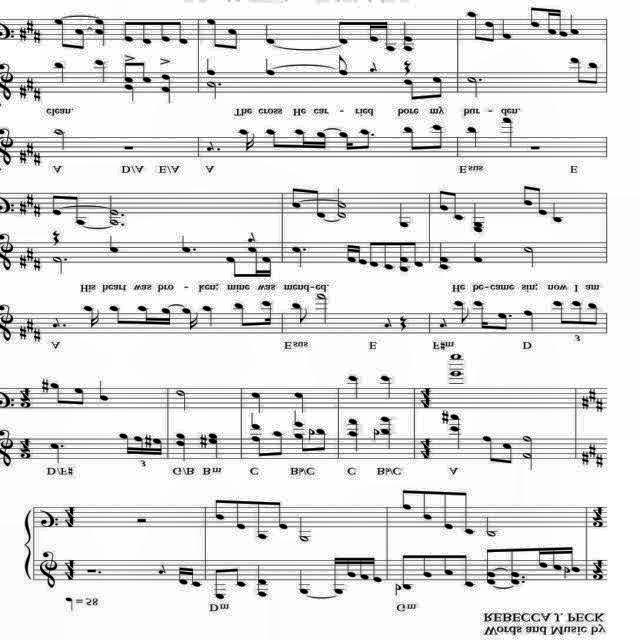Bass-clef: (40, 509, 60, 528), (1, 194, 16, 214), (0, 391, 16, 409), (1, 22, 16, 40)
Bemol: (372, 428, 381, 442), (393, 584, 402, 596), (307, 430, 315, 442)
Diez: (439, 410, 449, 426), (580, 450, 590, 466), (595, 454, 605, 470), (579, 396, 589, 412), (25, 317, 35, 333), (32, 328, 42, 344), (32, 87, 42, 103), (32, 30, 42, 46), (18, 28, 28, 44), (587, 443, 597, 457), (18, 327, 28, 341), (18, 201, 28, 215), (33, 153, 43, 167), (17, 149, 27, 163), (18, 85, 28, 99), (596, 398, 604, 414), (19, 254, 27, 270), (26, 246, 34, 262), (34, 202, 42, 218), (26, 18, 34, 34), (588, 388, 598, 400), (25, 194, 35, 206), (34, 259, 42, 273), (26, 141, 34, 155), (26, 77, 34, 91)
Eighth-note: (456, 490, 476, 536), (268, 500, 290, 530), (305, 187, 327, 217), (484, 548, 502, 584), (442, 490, 458, 530), (52, 18, 72, 50), (402, 553, 418, 591), (213, 568, 231, 600), (457, 556, 475, 588), (257, 500, 271, 540), (206, 17, 224, 48), (422, 489, 438, 521), (448, 190, 464, 222), (466, 10, 482, 42), (481, 435, 499, 463), (233, 302, 254, 326), (570, 57, 588, 85), (510, 546, 522, 586), (534, 186, 550, 216), (69, 195, 85, 225), (235, 498, 249, 530), (410, 240, 426, 268), (398, 242, 412, 274), (250, 435, 270, 457), (265, 128, 287, 148), (402, 79, 422, 101), (552, 300, 570, 324), (402, 127, 420, 151), (337, 20, 355, 44), (368, 239, 382, 269), (428, 125, 444, 151), (173, 20, 189, 46), (140, 20, 156, 46), (49, 383, 67, 405), (225, 255, 243, 277), (454, 300, 470, 324), (427, 76, 443, 100), (50, 192, 66, 215), (158, 21, 174, 44), (110, 304, 128, 324), (382, 241, 394, 271), (292, 303, 308, 325), (436, 190, 452, 212), (528, 6, 544, 28), (122, 21, 138, 43), (138, 61, 154, 83), (293, 433, 311, 452), (214, 498, 228, 522), (271, 430, 283, 458), (572, 300, 586, 324), (585, 302, 599, 326), (230, 568, 246, 588), (290, 187, 304, 209), (585, 62, 599, 84), (224, 28, 238, 50), (123, 61, 137, 83), (73, 29, 87, 51), (521, 186, 535, 207), (422, 554, 434, 578), (444, 554, 456, 578), (70, 387, 86, 405), (317, 424, 327, 452), (502, 443, 514, 465), (359, 128, 371, 150), (338, 54, 349, 78), (402, 490, 414, 510), (484, 22, 496, 42), (496, 312, 508, 330)
Eighth-rest: (156, 563, 168, 575), (51, 317, 60, 329), (369, 62, 378, 74), (438, 318, 448, 328), (247, 233, 257, 243), (206, 140, 214, 152), (384, 318, 392, 328)
Full-note: (447, 370, 463, 378), (448, 353, 464, 361)
Full-rest: (134, 519, 150, 525)
Half-note: (522, 434, 536, 470), (315, 292, 329, 324), (337, 187, 348, 219), (298, 516, 310, 544), (485, 514, 499, 538), (109, 194, 119, 226), (522, 246, 536, 268), (176, 388, 187, 412), (54, 129, 66, 151), (466, 75, 478, 97), (51, 256, 64, 274), (206, 81, 218, 99)
Half-rest: (526, 145, 544, 151), (85, 568, 98, 574), (120, 146, 136, 150)
Quarter-note: (450, 414, 462, 451), (160, 72, 173, 106), (346, 418, 359, 450), (256, 564, 268, 598), (380, 416, 392, 448), (502, 116, 514, 148), (472, 202, 484, 234), (208, 432, 220, 460), (438, 242, 450, 270), (402, 22, 413, 52), (293, 392, 307, 414), (95, 18, 106, 46), (251, 392, 263, 416), (380, 376, 392, 400), (94, 60, 106, 84), (398, 202, 409, 228), (299, 568, 309, 596), (176, 432, 186, 460), (248, 410, 262, 430), (264, 24, 278, 44), (53, 61, 65, 84), (348, 376, 359, 400), (472, 242, 484, 264), (552, 201, 564, 223), (290, 246, 302, 268), (467, 127, 478, 149), (50, 442, 62, 462), (98, 382, 110, 402), (524, 310, 536, 330), (501, 20, 513, 40), (108, 234, 120, 253), (292, 411, 304, 429), (206, 59, 218, 76), (264, 58, 274, 78), (182, 234, 192, 253), (65, 596, 75, 612), (124, 86, 134, 102)
Quarter-rest: (399, 314, 409, 334), (403, 58, 413, 74), (51, 230, 60, 247)
Sixteenth-note: (473, 298, 493, 329), (378, 20, 396, 52), (246, 246, 262, 278), (82, 304, 102, 328), (334, 556, 346, 594), (237, 128, 256, 152), (566, 546, 582, 574), (556, 7, 570, 38), (137, 305, 155, 327), (118, 432, 134, 456), (369, 556, 383, 582), (182, 308, 198, 330), (294, 127, 310, 149), (366, 21, 382, 43), (550, 546, 564, 570), (261, 300, 273, 328), (546, 8, 558, 36), (259, 255, 273, 278), (158, 306, 174, 326), (538, 546, 550, 570), (339, 132, 355, 150), (188, 568, 202, 588), (314, 130, 328, 150), (358, 556, 369, 580), (356, 244, 368, 266), (347, 556, 358, 578), (134, 436, 146, 456), (152, 436, 164, 456), (345, 244, 357, 264), (178, 567, 190, 585)
Treble-clef: (39, 550, 59, 590), (0, 304, 14, 344), (0, 430, 14, 468), (0, 233, 14, 271), (0, 129, 14, 167), (0, 62, 12, 101)
